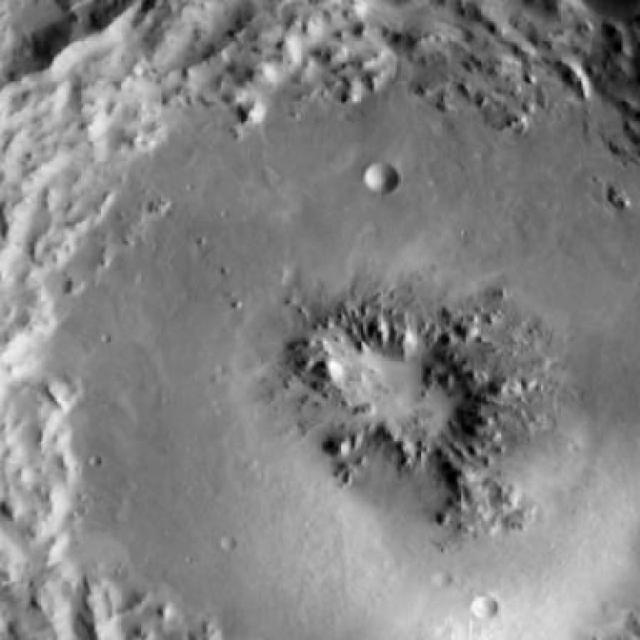crater: (0, 0, 640, 640), (365, 161, 401, 193), (474, 598, 498, 620)
